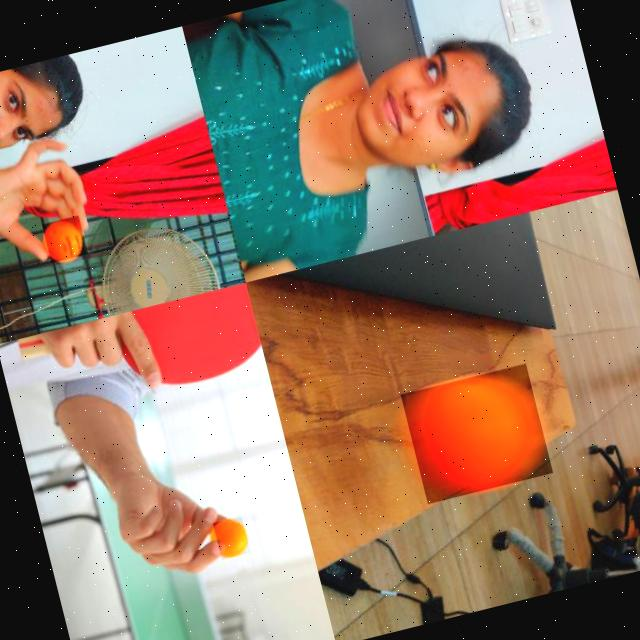ping-pong-ball: (399, 362, 553, 504), (41, 214, 88, 264), (212, 514, 250, 560)
